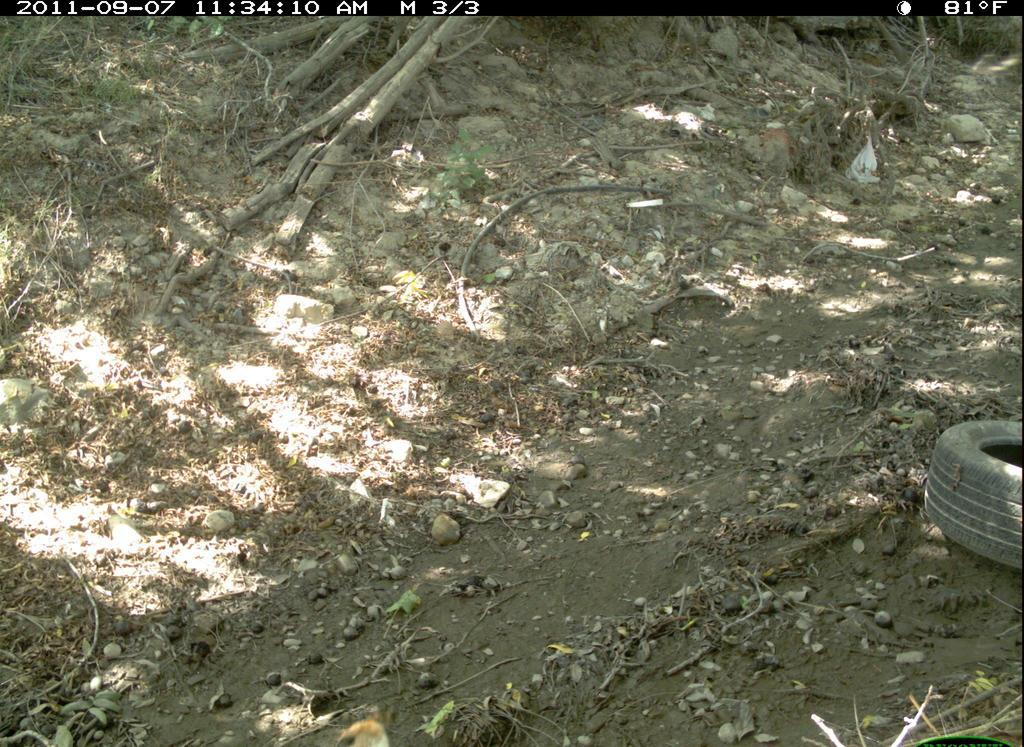cat: (327, 701, 408, 747)
